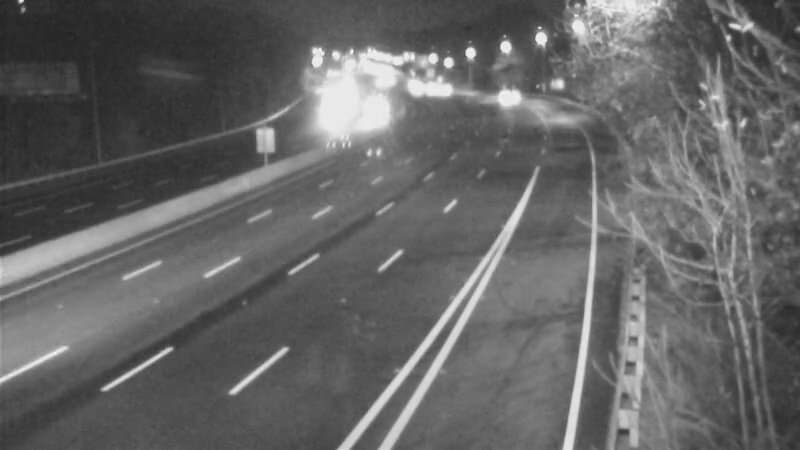vehicle: (476, 63, 526, 113), (340, 85, 390, 135)
